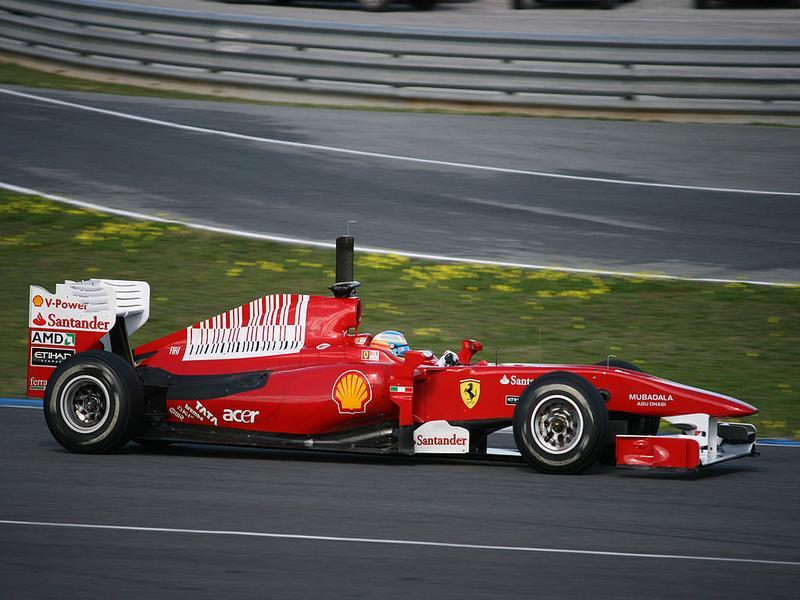racecar: (16, 260, 776, 476)
